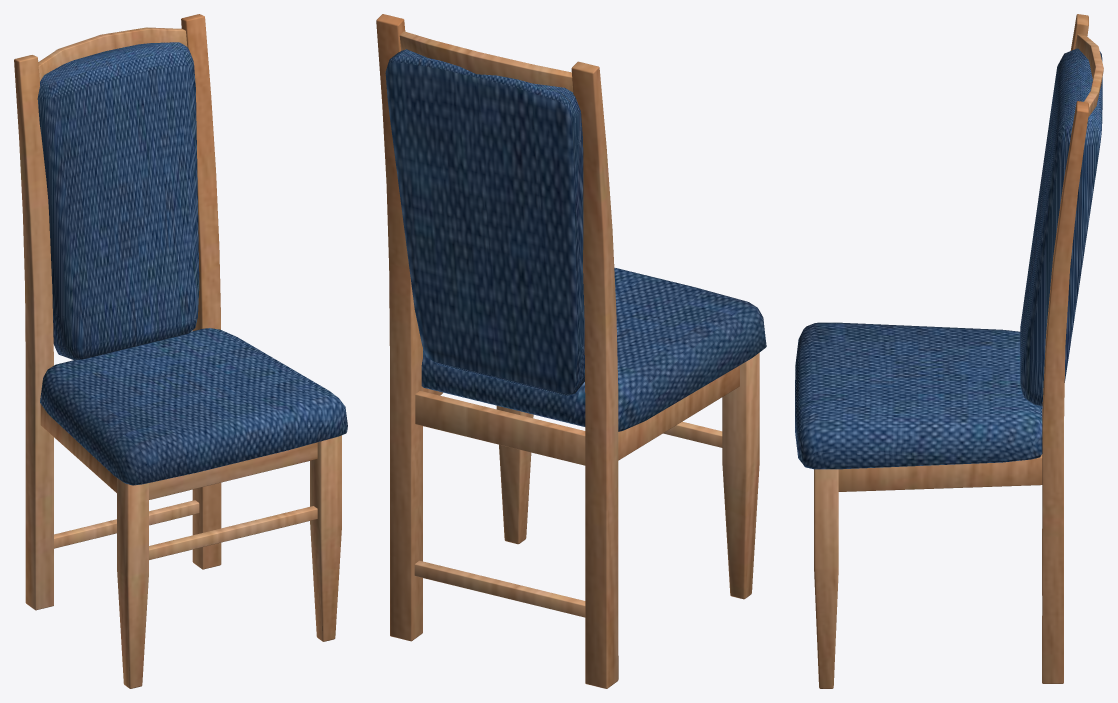
File: objeto01.obj
3 renders of one model, left to right at view 1: azimuth 30°, elevation 25°; view 2: azimuth 150°, elevation 25°; view 3: azimuth 270°, elevation 25°, orthographic. The views are drawn at different scales.
Visible parts, largest first — view 1: objeto01_Silla:pasted__polySurface10group2; view 2: objeto01_Silla:pasted__polySurface10group2; view 3: objeto01_Silla:pasted__polySurface10group2.
Part boxes in pixels (x1=…): objeto01_Silla:pasted__polySurface10group2: x1=14, y1=14, x2=347, y2=688; objeto01_Silla:pasted__polySurface10group2: x1=376, y1=14, x2=766, y2=688; objeto01_Silla:pasted__polySurface10group2: x1=795, y1=14, x2=1103, y2=688.
Bounding box in the file's own units: 1.82 × 4.15 × 2.02.
